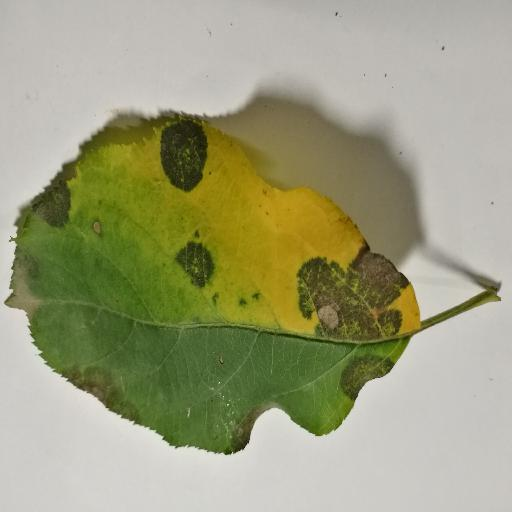Brown_Spot: (289, 251, 416, 337), (63, 362, 141, 423), (166, 239, 224, 293), (156, 124, 204, 189), (332, 353, 391, 399), (220, 407, 269, 453), (33, 179, 77, 224)
